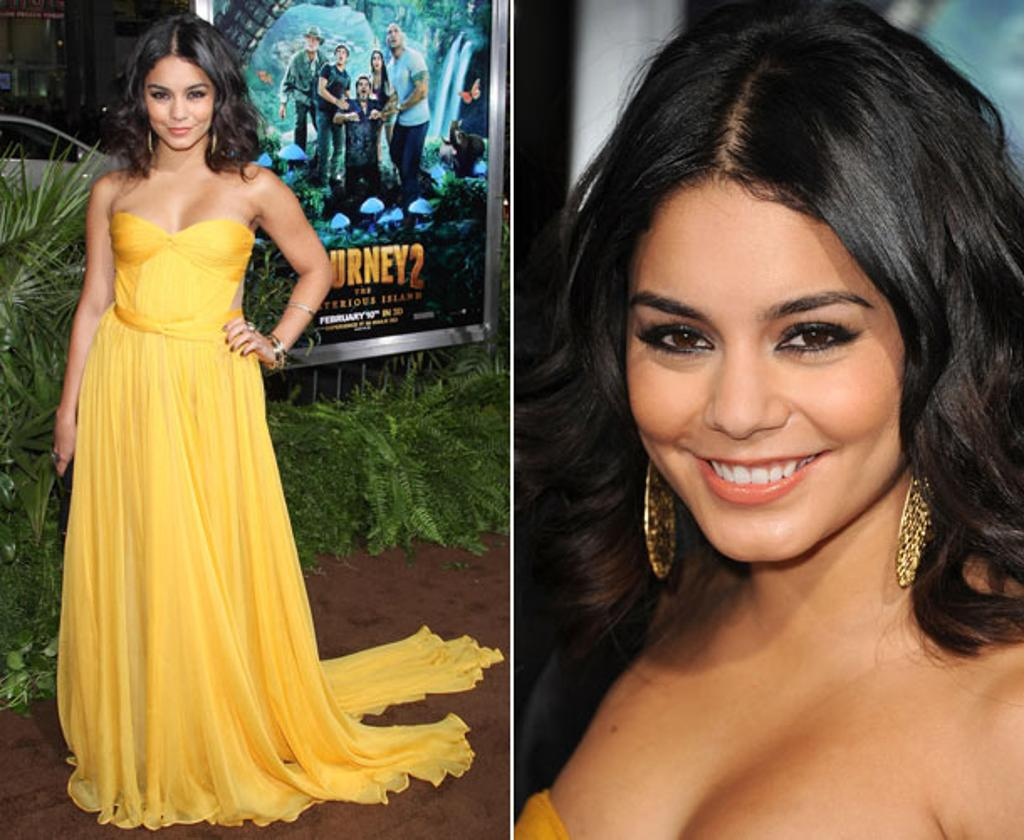face: (626, 188, 920, 562), (145, 59, 216, 147), (386, 27, 399, 47), (306, 34, 319, 50), (357, 80, 369, 95), (335, 49, 345, 64), (372, 54, 381, 68)
